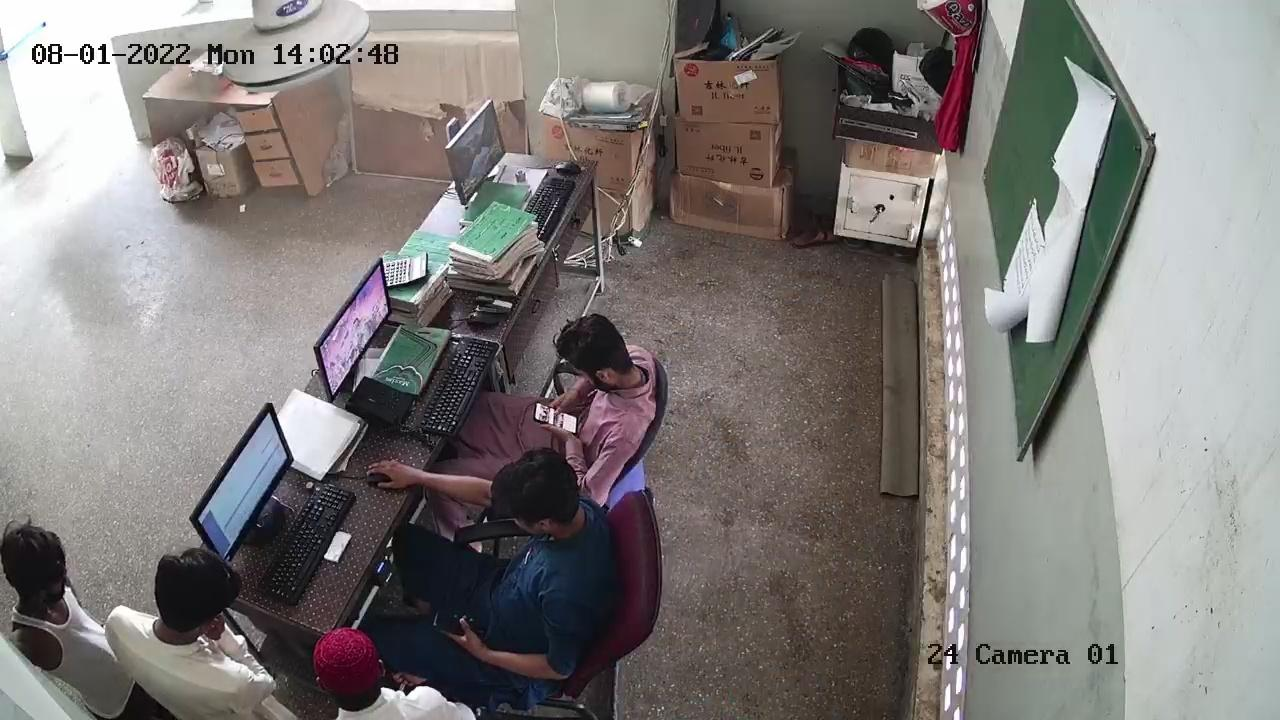person: (404, 458, 602, 675), (112, 548, 274, 720), (475, 320, 656, 468), (1, 523, 125, 697), (301, 635, 467, 720)
